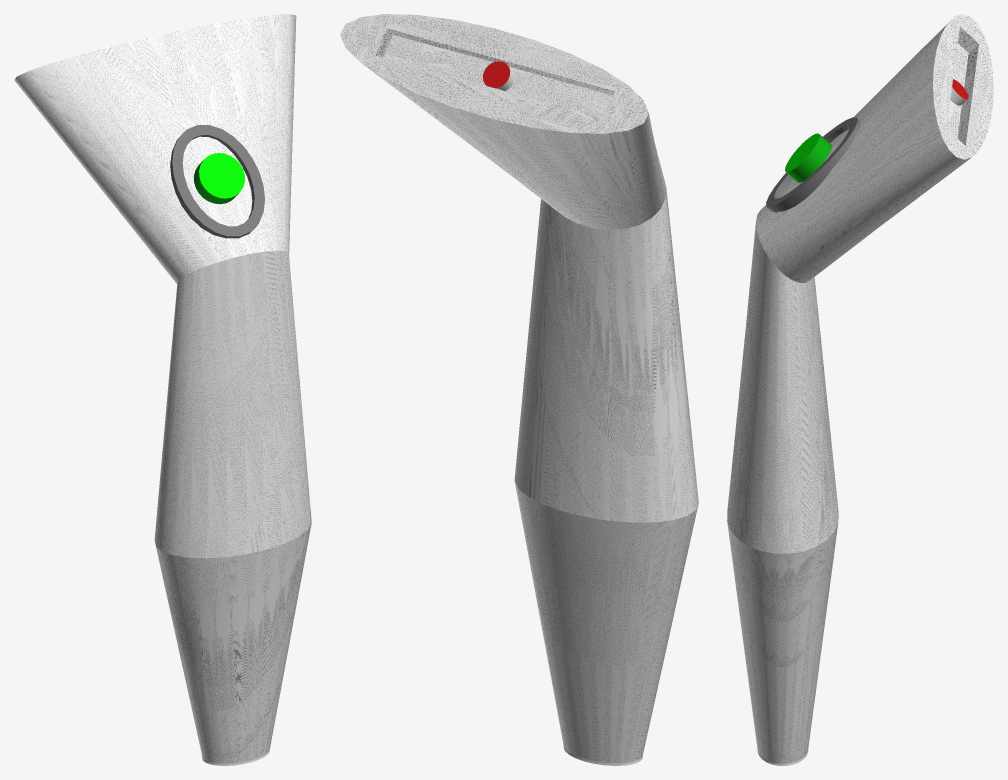
Rendered from scanner_grouped.dae.
The picture shows the model from 3 angles, left to right: view 1: azimuth 30°, elevation 25°; view 2: azimuth 150°, elevation 25°; view 3: azimuth 270°, elevation 25°; orthographic projection. The views are drawn at different scales.
Parts seen in each view (by area): view 1: scanner (×2), knapp; view 2: scanner (×4); view 3: scanner (×5), knapp (×2).
Boxes of the visible parts, x1,y1,x2,y2 form: scanner (×2): (14,14,311,763); knapp: (199,153,244,198); scanner (×4): (340,14,698,763); scanner (×5): (727,14,993,763); knapp (×2): (785,133,831,182).
Bounding box in the file's own units: 2.52 × 2.07 × 5.93.
